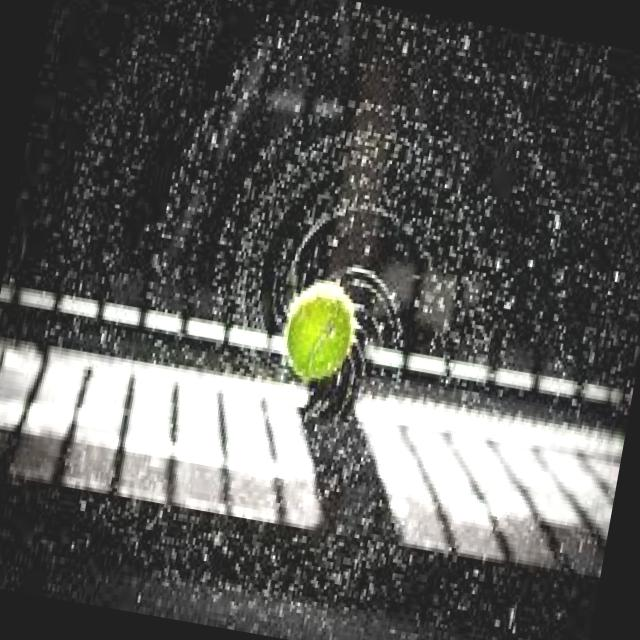tennis-ball: (280, 284, 358, 379)
